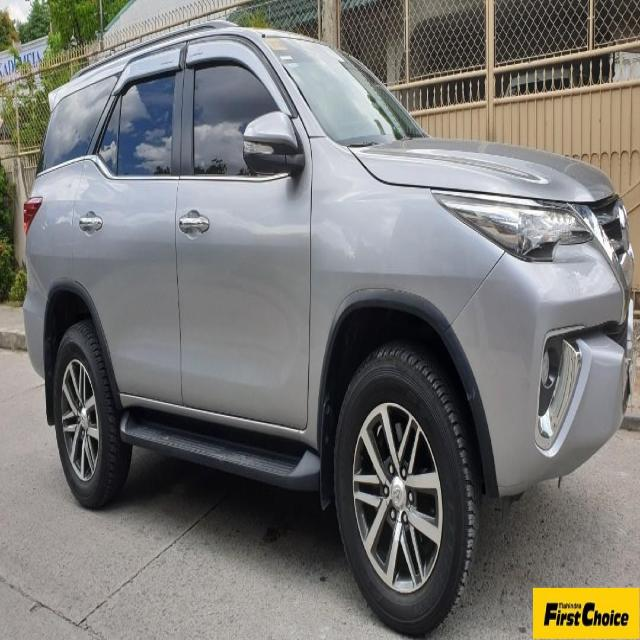light_vehicle: (21, 19, 636, 636)
